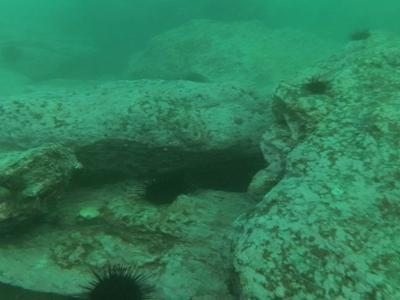urchin: (91, 273, 140, 299), (141, 181, 176, 207), (305, 79, 333, 98), (352, 30, 370, 40)
